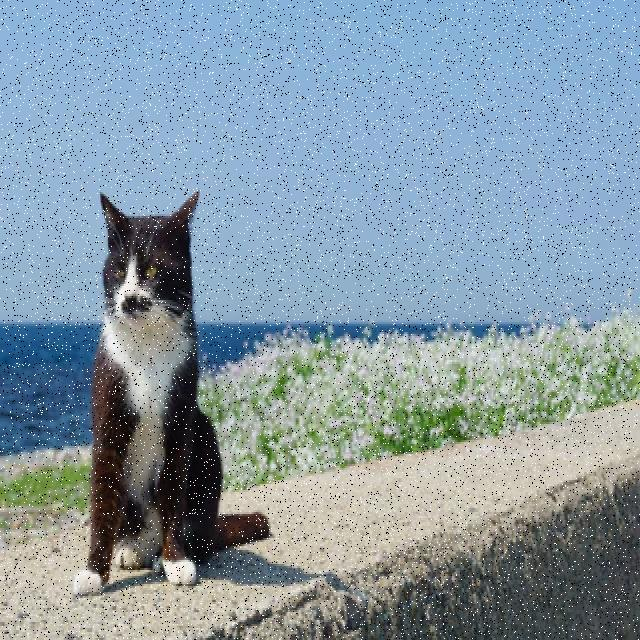cat: (74, 191, 269, 594)
